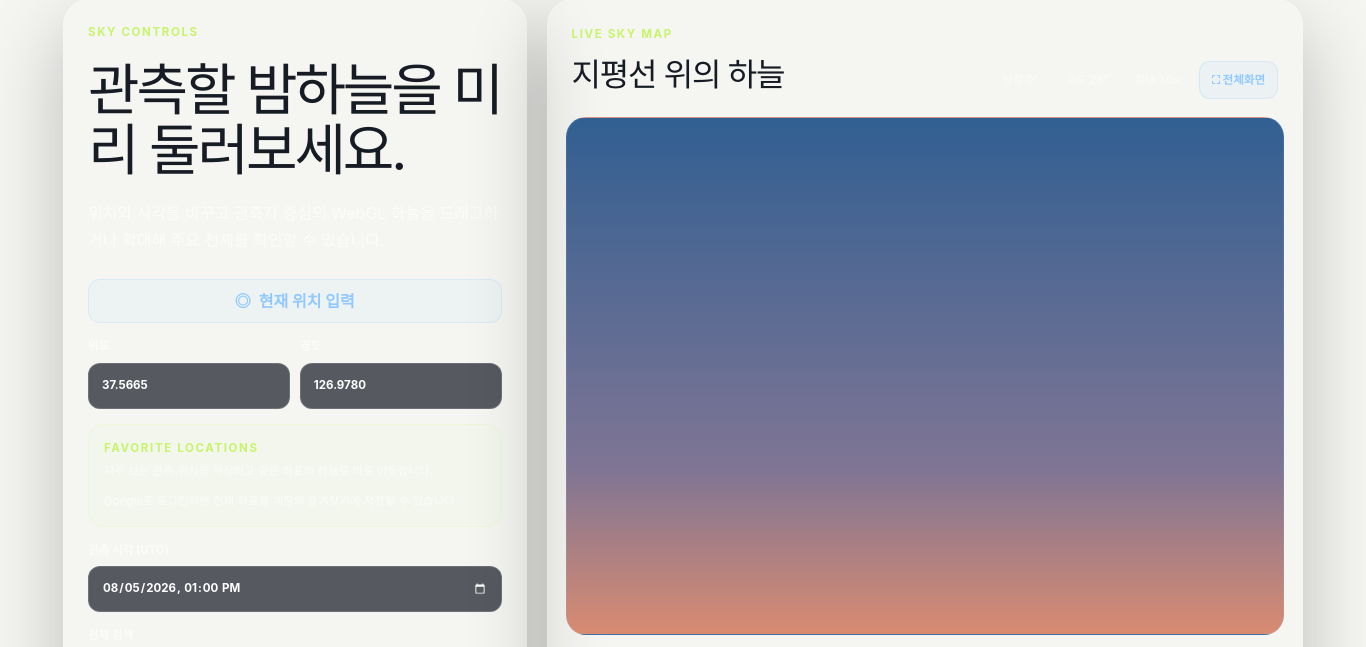
Test case: SkySimulator › selects a WebGL object through renderer hit testing
Press the mouse on the drawing named "선택한 위치와 시각의 관측자 중심 천체 시뮬레이션" at (925, 376), box [567,118,1283,634]
(page scrolled)
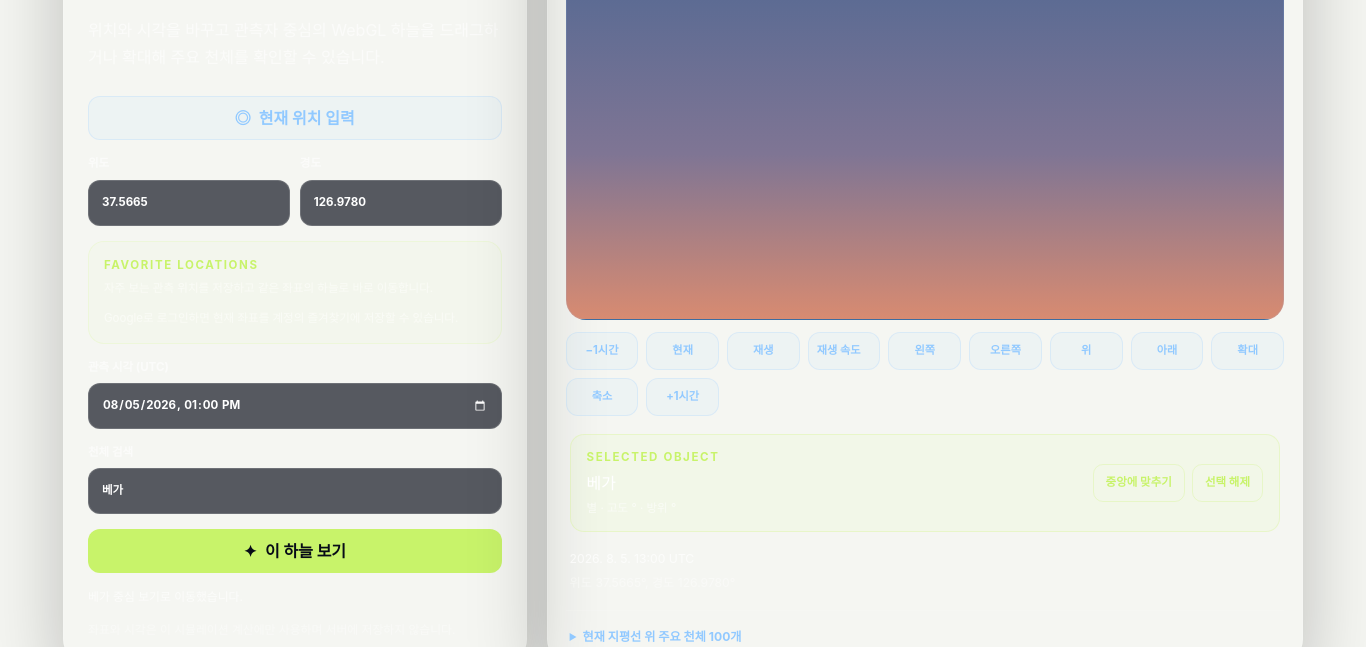
Result: the heading "베가" is shown at [587,473,616,493]
